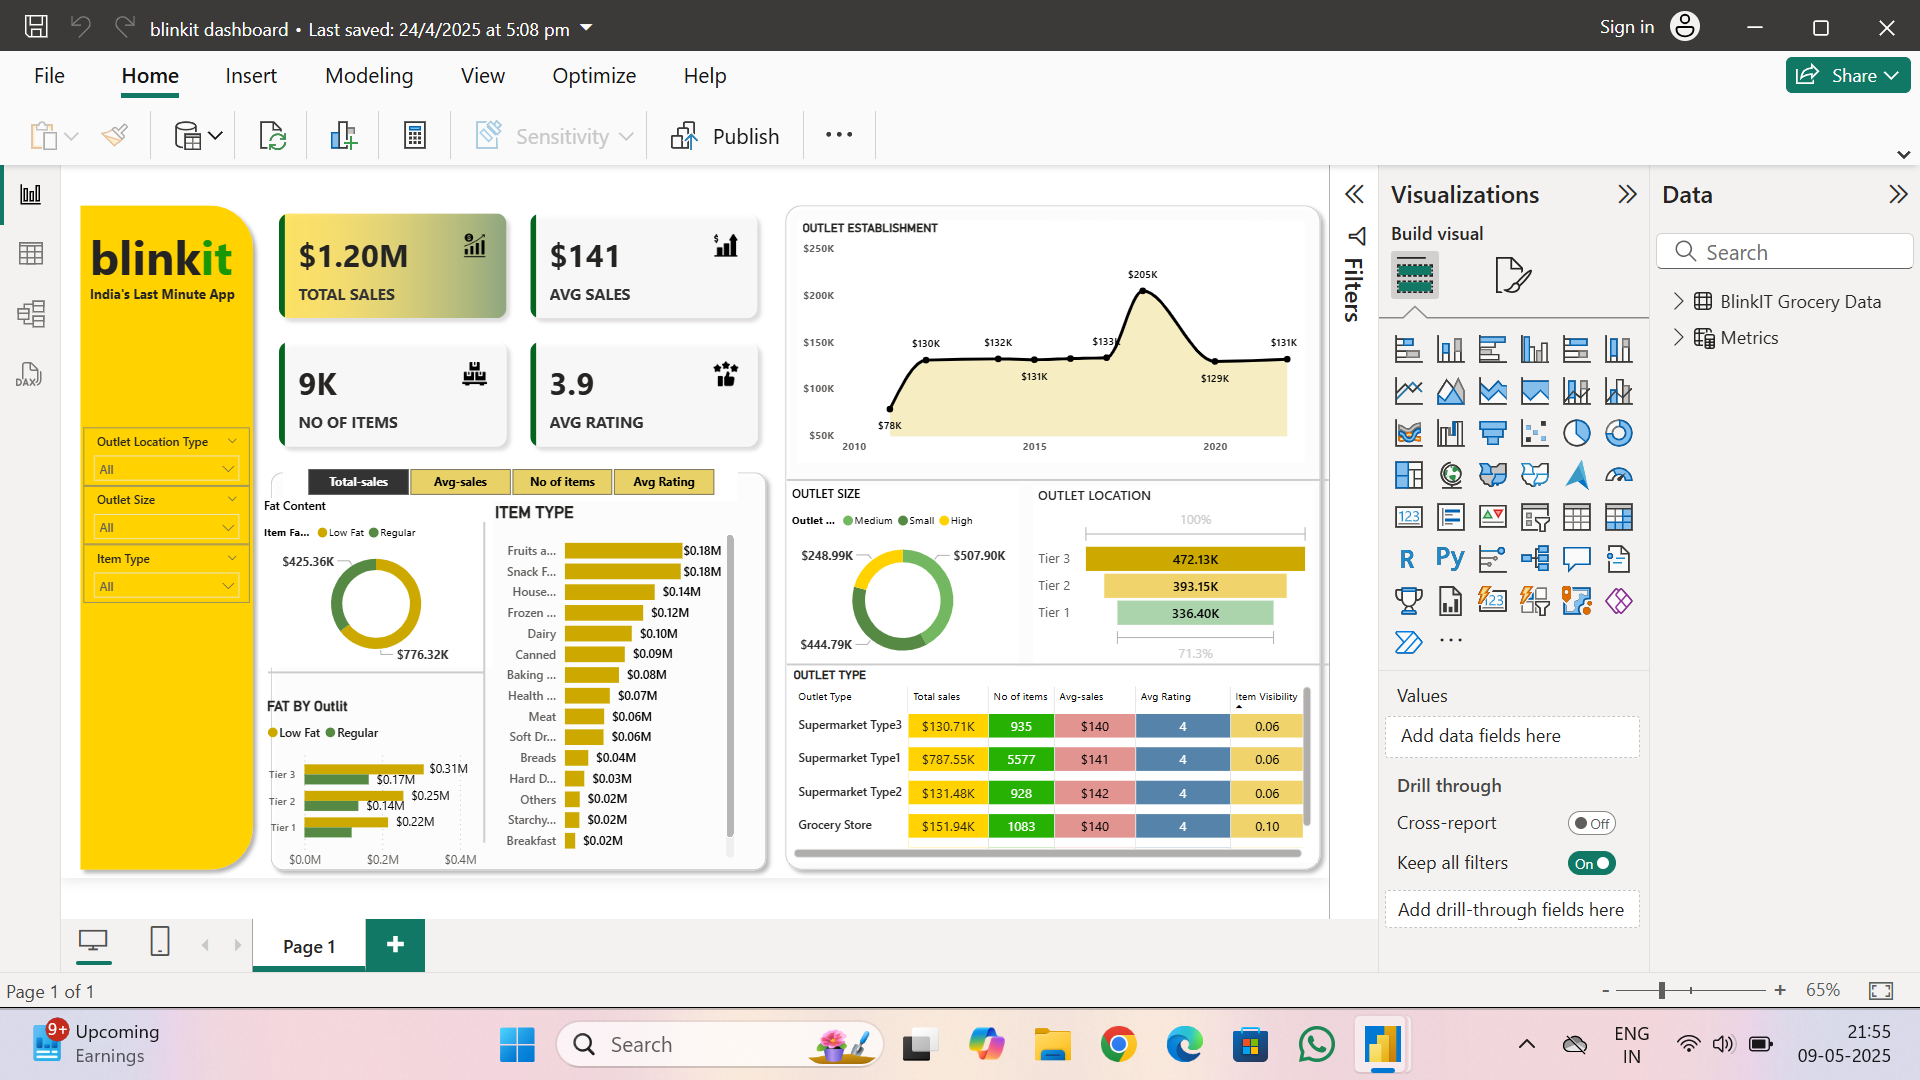

This screenshot's page, from the dashboard's own definition file:
{"tool":"powerbi","page":{"name":"Page 1","canvas":[1292,727],"ordinal":0},"visuals":[{"type":"shape","box":[10.7,32.1,194.1,695.4],"z":0},{"type":"textbox","box":[24.5,55,169.7,79.5],"z":1000},{"type":"textbox","box":[24.5,116.2,169.7,36.7],"z":2000},{"type":"cardVisual","fields":{"Data":["BlinkIT Grocery Data.Total-sales","BlinkIT Grocery Data.Avg-sales","BlinkIT Grocery Data.No of items","BlinkIT Grocery Data.Avg Rating"]},"box":[204.8,32.1,522.7,272.1],"z":3000},{"type":"shape","box":[204.8,304.2,522.7,423.4],"z":4000},{"type":"slicer","fields":{"Values":["Metrics.Metrics"]},"box":[226.7,303.3,463.3,40],"z":5000},{"type":"donutChart","title":"Fat Content","fields":{"Y":["BlinkIT Grocery Data.Total sales"],"Category":["BlinkIT Grocery Data.Item Fat Content"]},"box":[201.7,339.3,238.4,172.7],"z":7000},{"type":"clusteredBarChart","title":" FAT BY Outlit","fields":{"Y":["BlinkIT Grocery Data.Total sales"],"Category":["BlinkIT Grocery Data.Outlet Location Type"],"Series":["BlinkIT Grocery Data.Item Fat Content"]},"box":[205,543.3,231.7,183.3],"z":8000},{"type":"shape","box":[211.7,511.7,220,10],"z":9000},{"type":"shape","box":[418.3,363.3,25,326.7],"z":10000},{"type":"barChart","title":" ITEM TYPE","fields":{"Y":["BlinkIT Grocery Data.Total sales"],"Category":["BlinkIT Grocery Data.Item Type"]},"box":[436.7,343.3,253.3,366.7],"z":11000},{"type":"shape","box":[728.3,31.7,563.3,695],"z":12000},{"type":"lineChart","title":"OUTLET ESTABLISHMENT","fields":{"Category":["BlinkIT Grocery Data.Outlet Establishment Year"],"Y":["BlinkIT Grocery Data.Total sales"]},"box":[750,56.7,516.7,246.7],"z":13000},{"type":"shape","box":[739.7,317.9,551.8,6.1],"z":14000},{"type":"donutChart","title":"OUTLET SIZE","fields":{"Y":["BlinkIT Grocery Data.Total sales"],"Category":["BlinkIT Grocery Data.Outlet Size"]},"box":[739.1,326.9,235.7,189.5],"z":15000},{"type":"funnel","title":"OUTLET LOCATION","fields":{"Y":["Sum(BlinkIT Grocery Data.Sales)"],"Category":["BlinkIT Grocery Data.Outlet Location Type"]},"box":[990.4,327.1,287.3,184.9],"z":16000},{"type":"shape","box":[739.7,505.9,551.8,6.1],"z":17000},{"type":"pivotTable","title":"OUTLET TYPE","fields":{"Rows":["BlinkIT Grocery Data.Outlet Type"],"Values":["BlinkIT Grocery Data.Total sales","BlinkIT Grocery Data.No of items","BlinkIT Grocery Data.Avg-sales","BlinkIT Grocery Data.Avg Rating","Avg(BlinkIT Grocery Data.Item Visibility)"]},"box":[741.3,512,538,198.7],"z":18000},{"type":"slicer","fields":{"Values":["BlinkIT Grocery Data.Outlet Location Type"]},"box":[22.9,267.5,169.7,59.6],"z":19000},{"type":"slicer","fields":{"Values":["BlinkIT Grocery Data.Outlet Size"]},"box":[22.9,327.1,169.7,59.6],"z":20000},{"type":"slicer","fields":{"Values":["BlinkIT Grocery Data.Item Type"]},"box":[22.9,386.7,169.7,59.6],"z":21000}]}

Visuals, with their boxes on the page's 1292x727 design canvas (x1, y1, x2, y2). These are canvas units, not pixel positions in the 1920x1080 screenshot, which may show the page scaled, cropped or inside an application window:
shape: <box>11,32,205,728</box>
textbox: <box>24,55,194,134</box>
textbox: <box>24,116,194,153</box>
cardVisual - BlinkIT Grocery Data.Total-sales x BlinkIT Grocery Data.Avg-sales: <box>205,32,728,304</box>
shape: <box>205,304,728,728</box>
slicer - Metrics.Metrics: <box>227,303,690,343</box>
"Fat Content" donutChart: <box>202,339,440,512</box>
" FAT BY Outlit" clusteredBarChart: <box>205,543,437,727</box>
shape: <box>212,512,432,522</box>
shape: <box>418,363,443,690</box>
" ITEM TYPE" barChart: <box>437,343,690,710</box>
shape: <box>728,32,1292,727</box>
"OUTLET ESTABLISHMENT" lineChart: <box>750,57,1267,303</box>
shape: <box>740,318,1292,324</box>
"OUTLET SIZE" donutChart: <box>739,327,975,516</box>
"OUTLET LOCATION" funnel: <box>990,327,1278,512</box>
shape: <box>740,506,1292,512</box>
"OUTLET TYPE" pivotTable: <box>741,512,1279,711</box>
slicer - BlinkIT Grocery Data.Outlet Location Type: <box>23,268,193,327</box>
slicer - BlinkIT Grocery Data.Outlet Size: <box>23,327,193,387</box>
slicer - BlinkIT Grocery Data.Item Type: <box>23,387,193,446</box>
